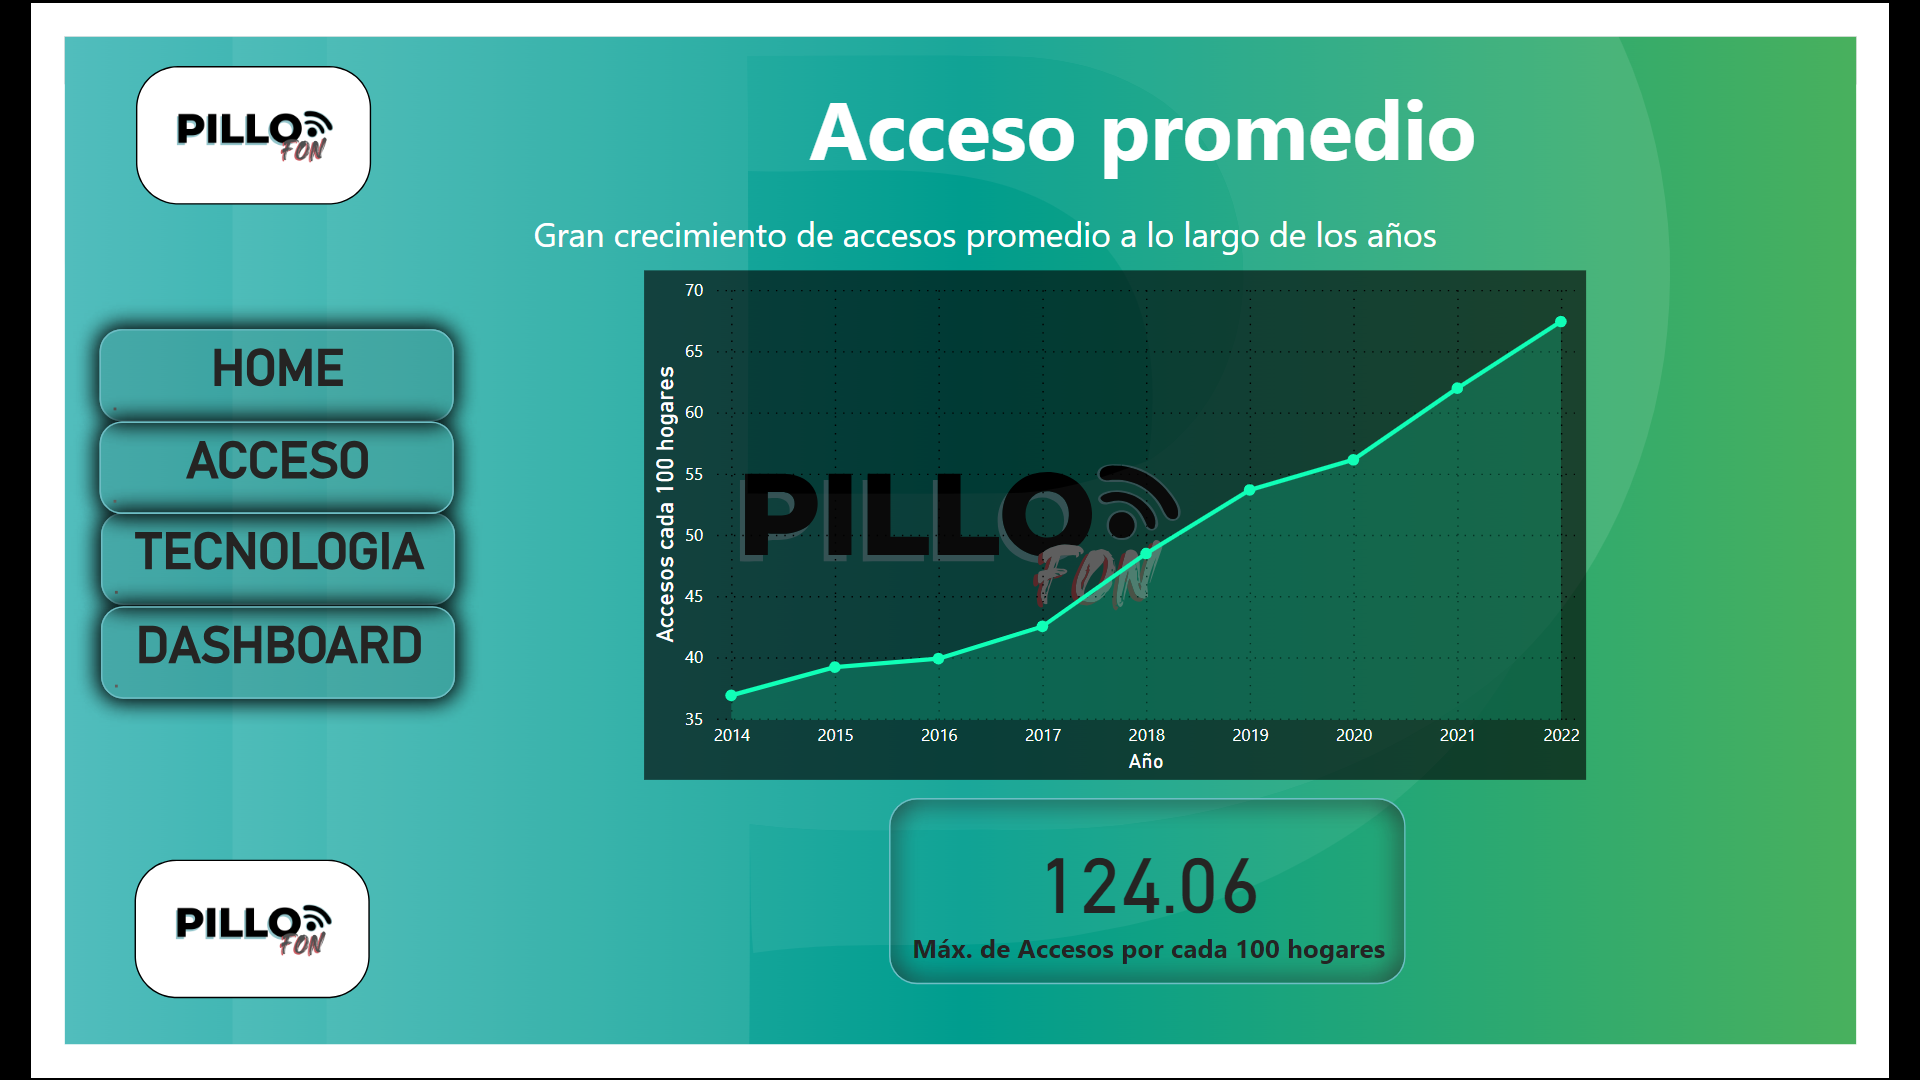

Layout of this report page (visuals, bound fields, positions):
{"tool":"powerbi","page":{"name":"Página 2","canvas":[1280,720],"ordinal":1},"visuals":[{"type":"image","box":[50.1,588,167.5,99],"z":0},{"type":"image","box":[51.3,20.8,167.5,99],"z":1000},{"type":"areaChart","fields":{"Y":["Avg(penetracion.Accesos por cada 100 hogares)"],"Category":["calendario.Fecha.Variación.Jerarquía de fechas.Año","calendario.Fecha.Variación.Jerarquía de fechas.Trimestre","calendario.Fecha.Variación.Jerarquía de fechas.Mes","calendario.Fecha.Variación.Jerarquía de fechas.Día"]},"box":[414.4,167.5,672.3,363.1],"z":2000},{"type":"card","fields":{"Values":["Max(penetracion.Accesos por cada 100 hogares)"]},"box":[588.5,543.9,369,132.7],"z":3000},{"type":"textbox","box":[330.1,118.6,663.8,48.9],"z":4000},{"type":"textbox","box":[414.4,19.6,712.7,99],"z":5000},{"type":"actionButton","title":"TECNOLOGIA","box":[26.1,340.3,253,66],"z":6000},{"type":"actionButton","title":"DASHBOARD","box":[26.1,406.8,253,66],"z":7000},{"type":"actionButton","title":"HOME","box":[25.2,209.3,253,66],"z":8000},{"type":"actionButton","title":"ACCESO","box":[25.2,275.3,253,66],"z":9000}]}

Visuals, with their boxes in screenshot pixels (x1, y1, x2, y2), scaled from the page's 1280x720 canvas onto the 1920x1080 screenshot:
image: locate(75, 882, 326, 1030)
image: locate(77, 31, 328, 180)
areaChart - Avg(penetracion.Accesos por cada 100 hogares) x calendario.Fecha.Variación.Jerarquía de fechas.Año: locate(622, 251, 1630, 796)
card - Max(penetracion.Accesos por cada 100 hogares): locate(883, 816, 1436, 1015)
textbox: locate(495, 178, 1491, 251)
textbox: locate(622, 29, 1691, 178)
"TECNOLOGIA" actionButton: locate(39, 510, 419, 609)
"DASHBOARD" actionButton: locate(39, 610, 419, 709)
"HOME" actionButton: locate(38, 314, 417, 413)
"ACCESO" actionButton: locate(38, 413, 417, 512)
